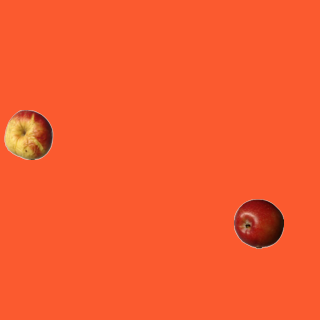Apple Braeburn: (233, 198, 283, 248)
Apple Red Yellow 1: (3, 109, 53, 159)
